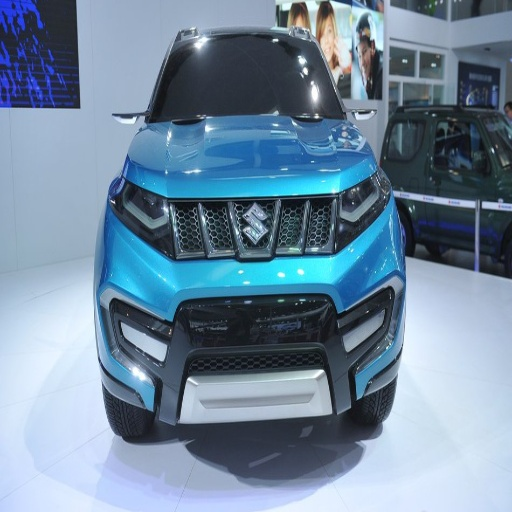front_bumper: (104, 194, 403, 427)
front_right_light: (108, 177, 169, 231)
